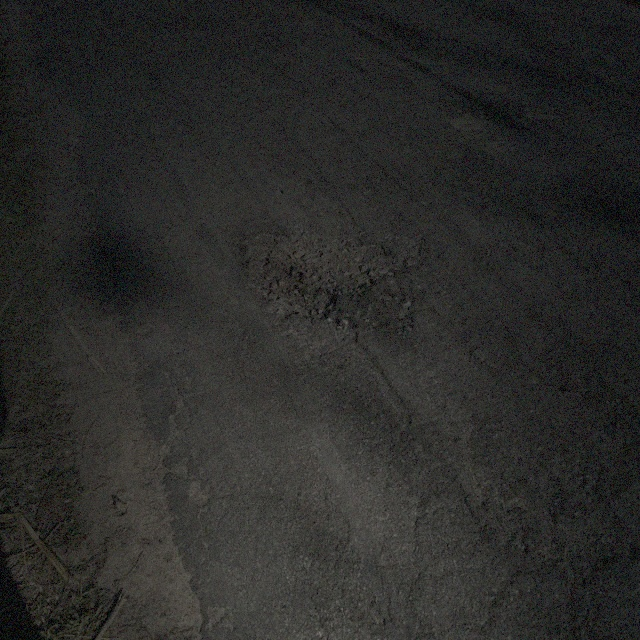pothole: (234, 222, 425, 324)
